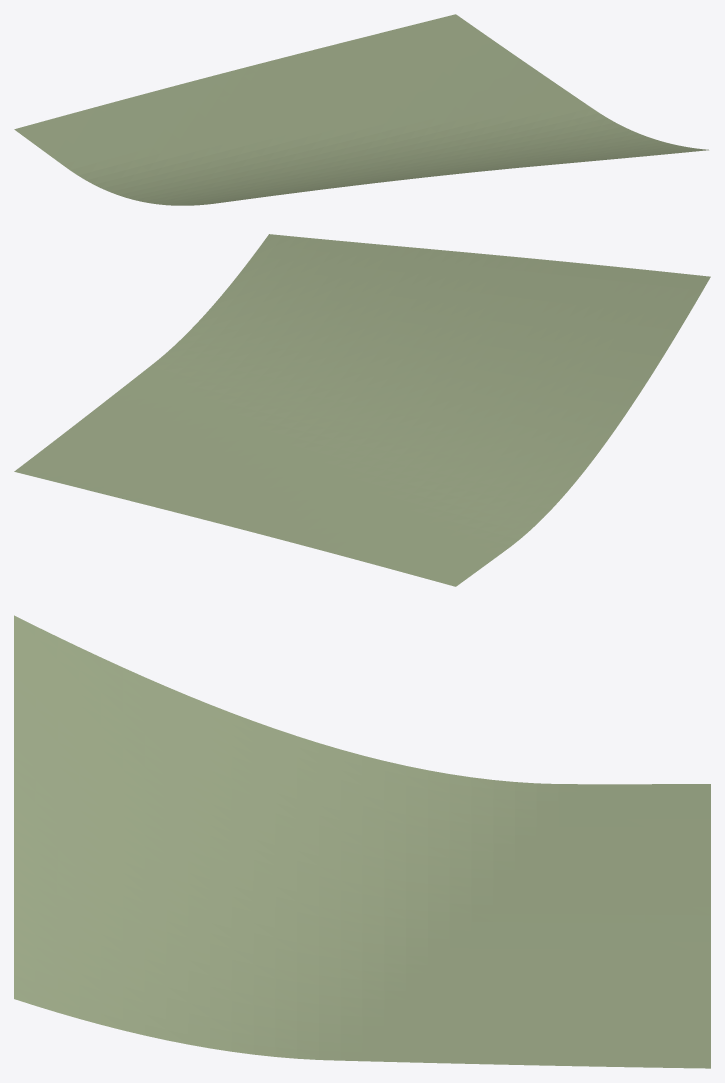
The model's file is expanse-21-1.glb.
The picture shows the model from 3 angles, top to bottom: view 1: azimuth 30°, elevation 25°; view 2: azimuth 150°, elevation 25°; view 3: azimuth 270°, elevation 25°; orthographic projection. The views are drawn at different scales.
Parts seen in each view (by area): view 1: expanse-21-1; view 2: expanse-21-1; view 3: expanse-21-1.
Boxes of the visible parts, bbox=[...] form: expanse-21-1: bbox=[14, 14, 708, 205]; expanse-21-1: bbox=[14, 234, 710, 586]; expanse-21-1: bbox=[14, 615, 710, 1068].
Size of the model in its own units: 256 by 68.4 by 256.
